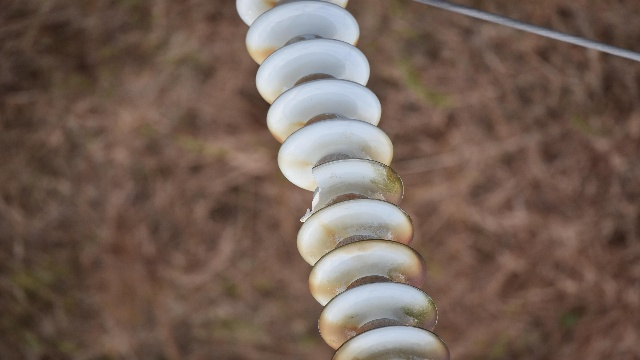broken_local: (298, 166, 324, 224)
insulator_unspecified: (234, 0, 451, 359)
